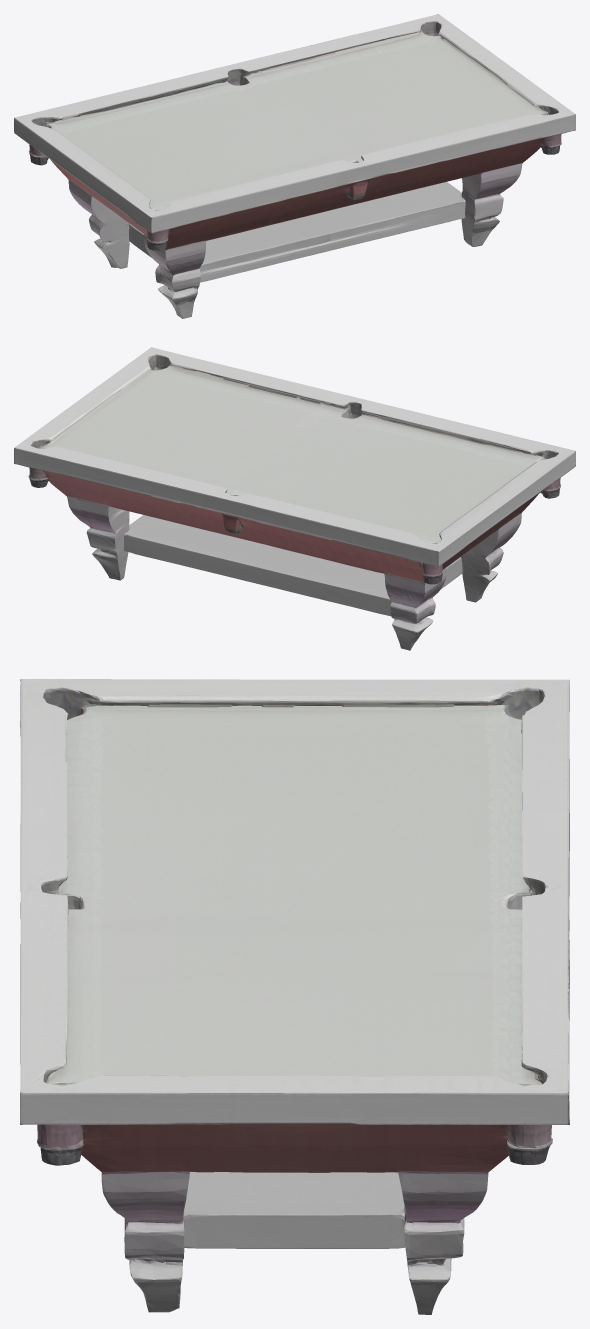
Rendered from appearance_edited_mesh.glb.
The picture shows the model from 3 angles, top to bottom: view 1: azimuth 30°, elevation 25°; view 2: azimuth 150°, elevation 25°; view 3: azimuth 270°, elevation 25°; orthographic projection. The views are drawn at different scales.
Visible parts, largest first — view 1: world; view 2: world; view 3: world.
Boxes of the visible parts, left/top/right/bottom form: world: left=14, top=14, right=575, bottom=318; world: left=14, top=347, right=575, bottom=650; world: left=20, top=679, right=569, bottom=1314.
Size of the model in its own units: 0.8501 by 0.2694 by 0.4767.
1 material, 1 textured.
